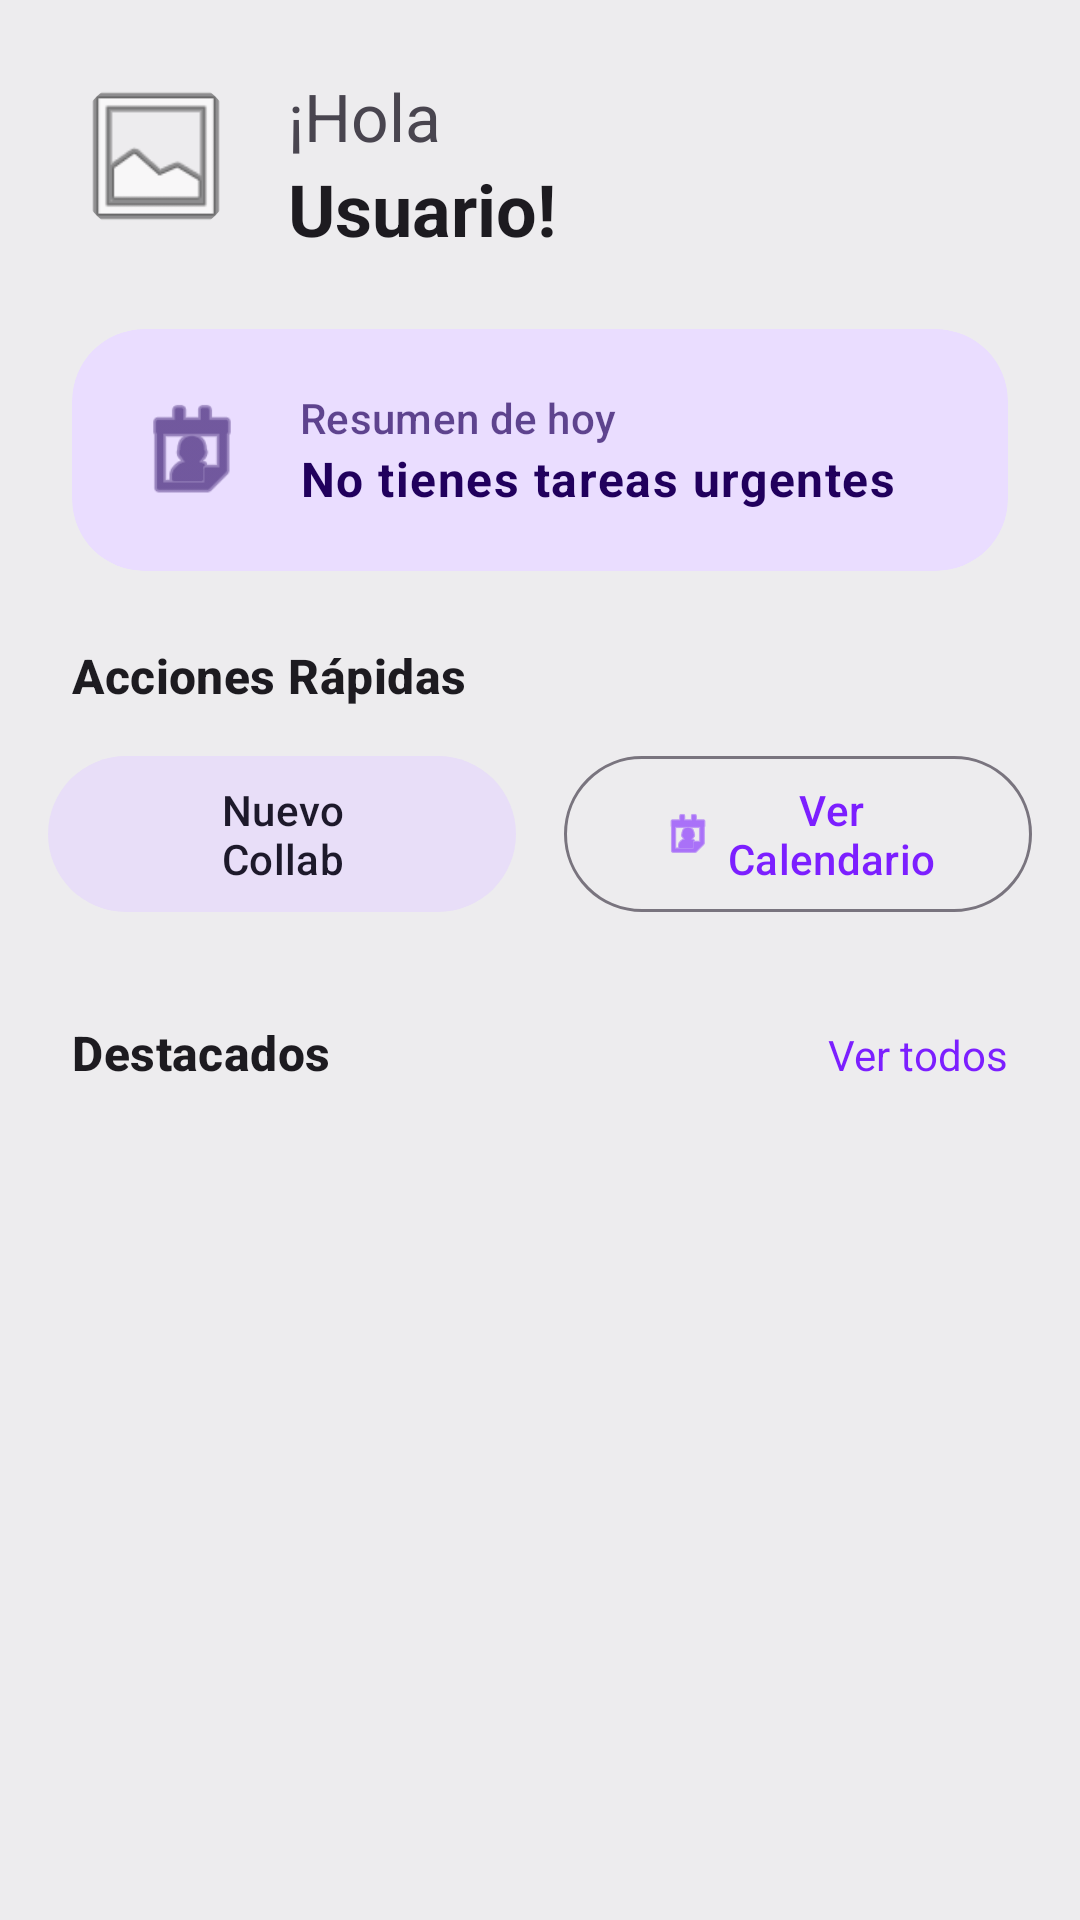

Where icons sit on this 1080 × 1920 app screen, as (x1, y1, x2, y2):
calendar: (153, 405, 231, 493)
gallery: (93, 92, 219, 220)
